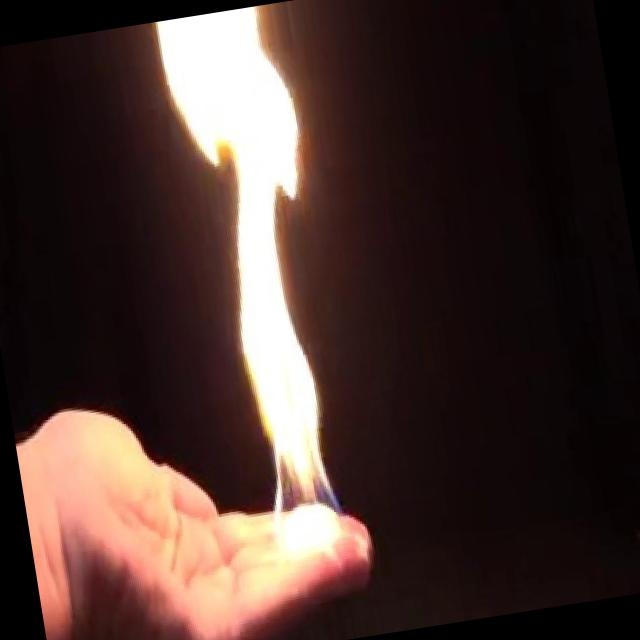Fire: (154, 2, 372, 566)
